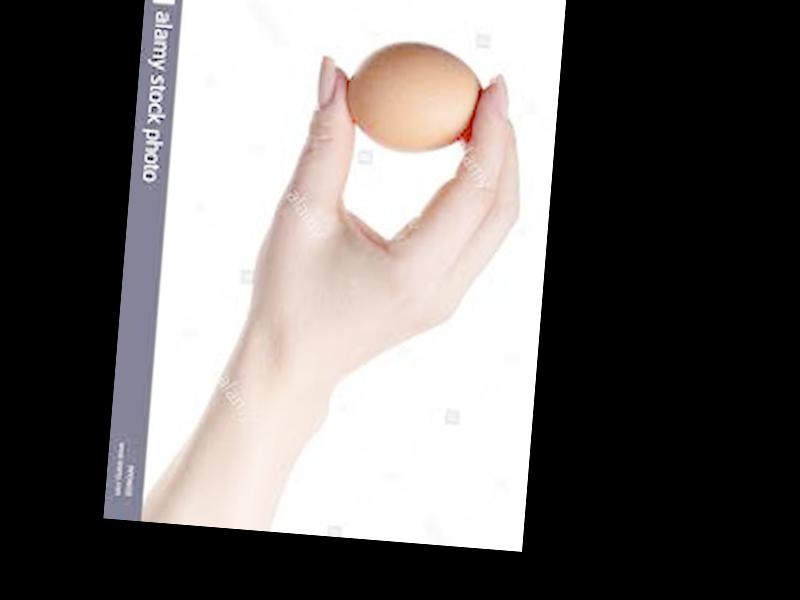Eggs: (345, 38, 485, 160)
